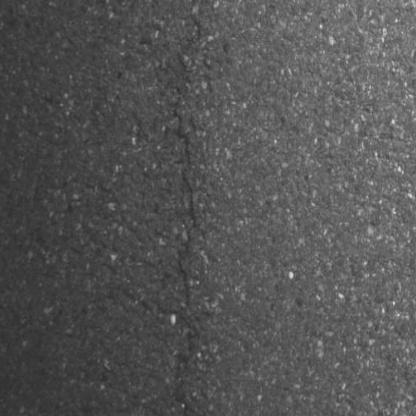Cracks: (152, 86, 202, 416)
